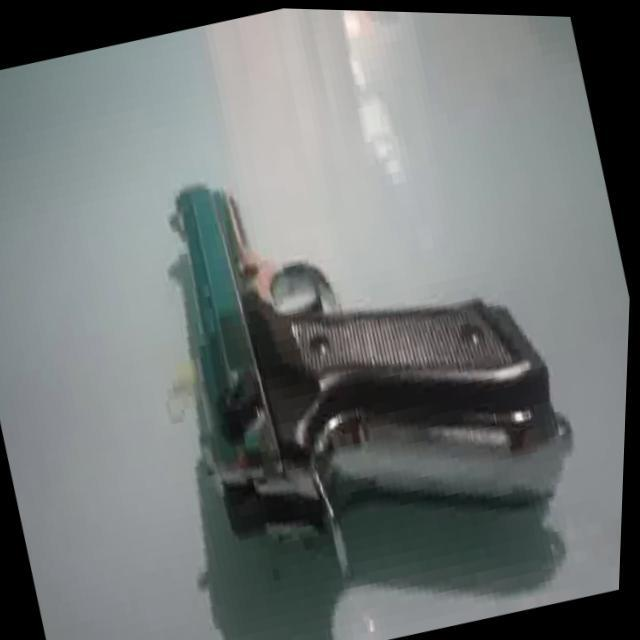weapon: (115, 102, 608, 614)
